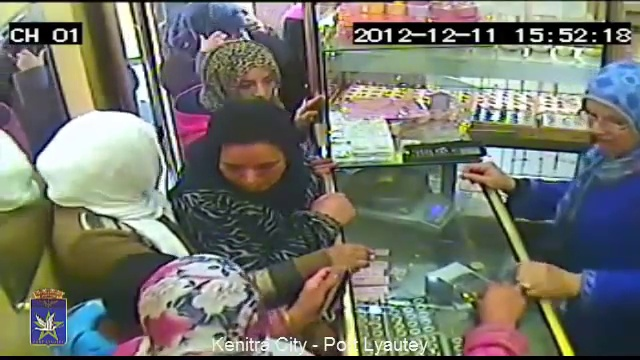face: (211, 142, 290, 190), (588, 93, 636, 156), (234, 63, 283, 106)
